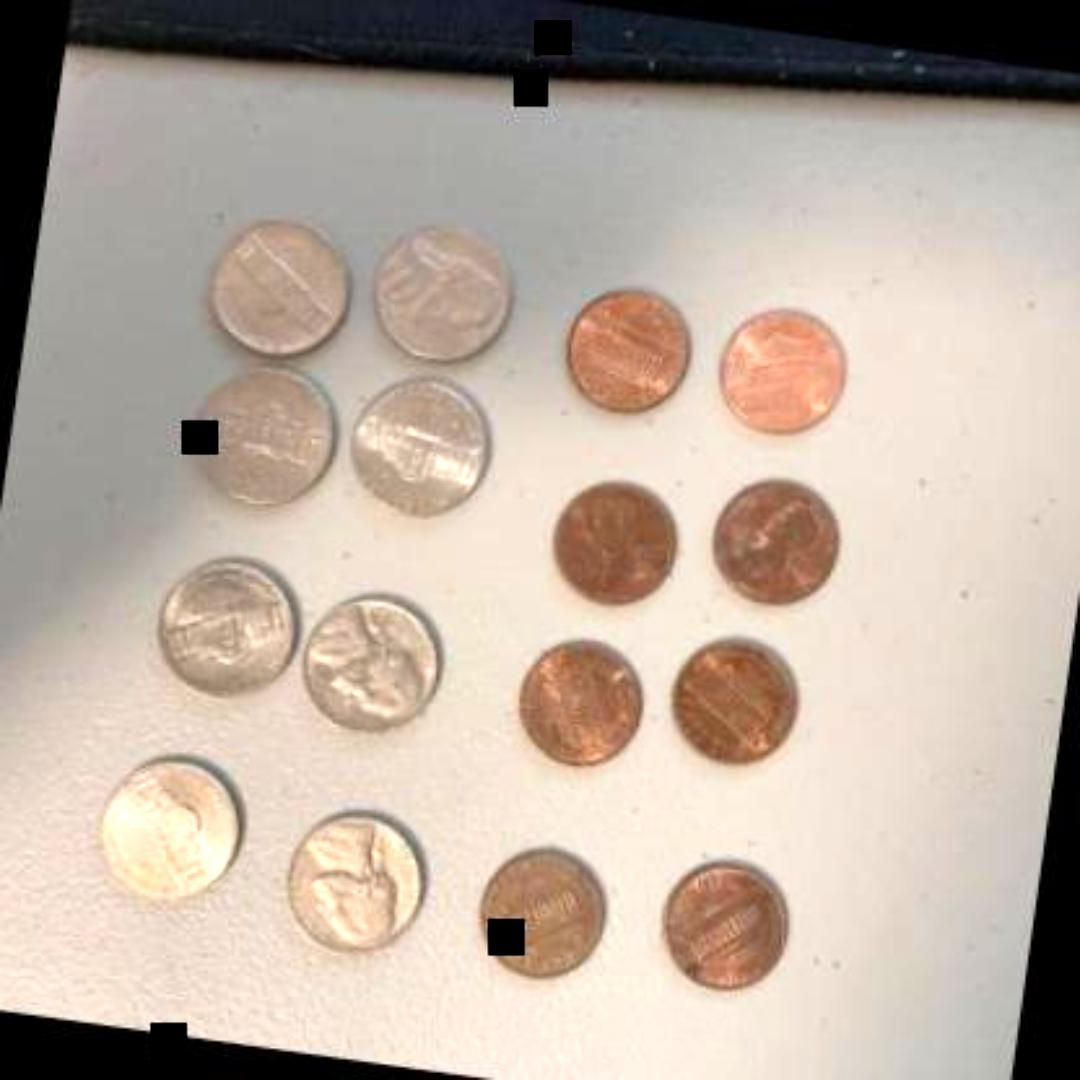Nickel: (270, 797, 438, 963), (82, 745, 250, 911), (202, 208, 366, 366), (289, 583, 452, 741), (336, 364, 499, 522), (356, 210, 518, 368), (147, 546, 305, 708), (184, 352, 346, 510)
Penny: (659, 625, 806, 770), (468, 837, 614, 982), (506, 625, 652, 770), (654, 850, 800, 995), (554, 277, 700, 419), (542, 468, 688, 610), (708, 295, 850, 437), (701, 468, 843, 604)
